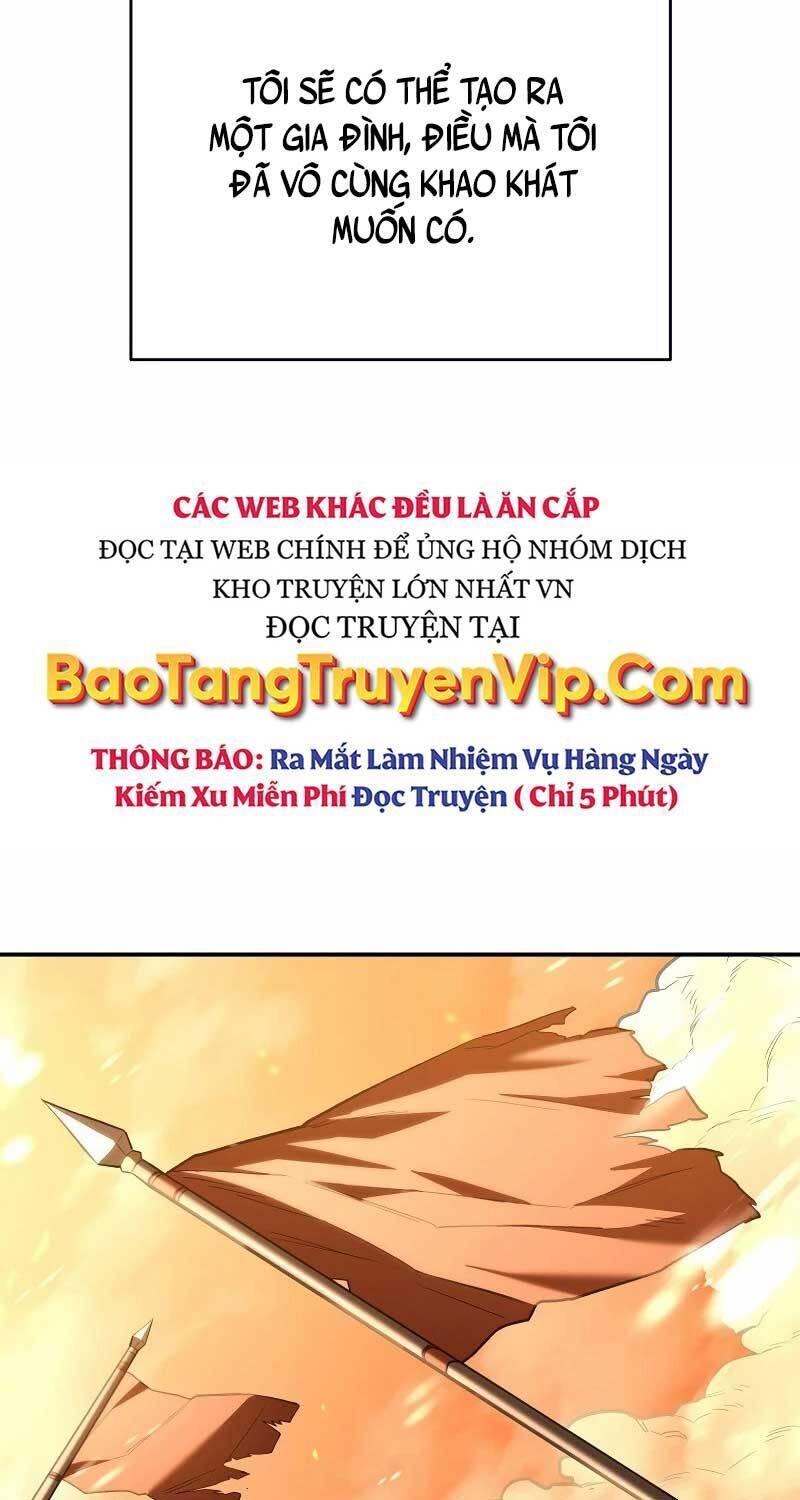quangcao: (28, 480, 766, 838)
